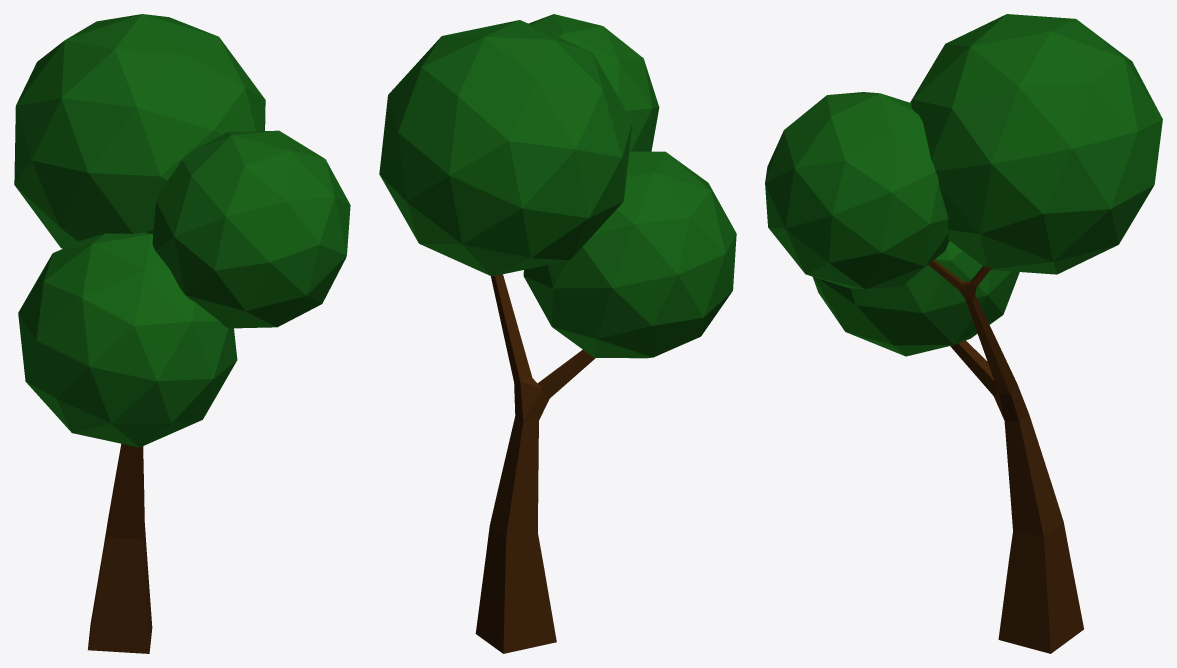
The model's file is Tree1.3.fbx.
3 renders of one model, left to right at view 1: azimuth 30°, elevation 25°; view 2: azimuth 150°, elevation 25°; view 3: azimuth 270°, elevation 25°, orthographic. The views are drawn at different scales.
Parts seen in each view (by area): view 1: Icosphere.008, Icosphere.006, Icosphere.007, Tree1.3; view 2: Icosphere.008, Icosphere.006, Tree1.3, Icosphere.007; view 3: Icosphere.008, Icosphere.007, Tree1.3, Icosphere.006.
Part boxes in pixels (left/top/right/bottom): Icosphere.008: left=14, top=14, right=265, bottom=248; Icosphere.006: left=18, top=232, right=237, bottom=447; Icosphere.007: left=152, top=130, right=350, bottom=328; Tree1.3: left=88, top=443, right=152, bottom=653; Icosphere.008: left=379, top=20, right=632, bottom=276; Icosphere.006: left=523, top=151, right=736, bottom=358; Tree1.3: left=475, top=274, right=595, bottom=653; Icosphere.007: left=528, top=14, right=659, bottom=151; Icosphere.008: left=910, top=14, right=1162, bottom=274; Icosphere.007: left=765, top=92, right=949, bottom=289; Tree1.3: left=928, top=260, right=1083, bottom=653; Icosphere.006: left=813, top=241, right=1019, bottom=356.
Bounding box in the file's own units: 506 × 1069 × 624.
